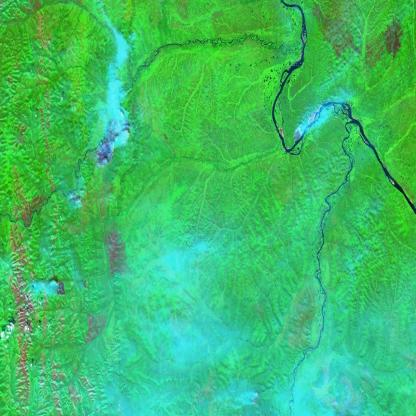fire: (91, 111, 133, 179), (52, 274, 69, 300)
